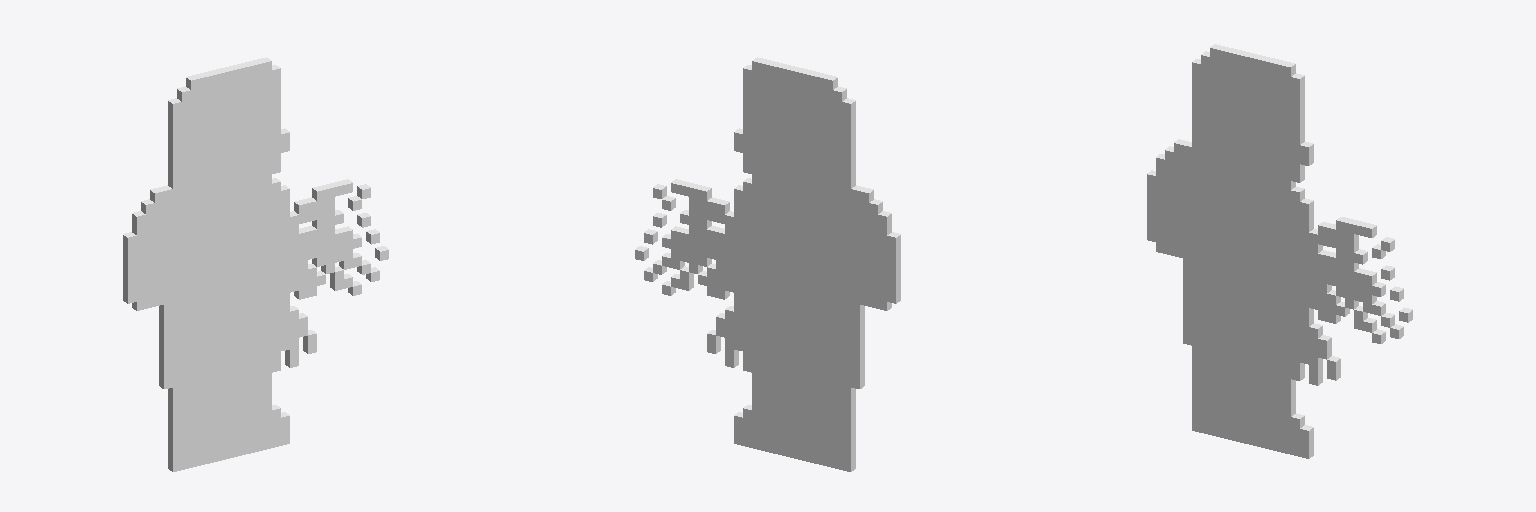
Rendered from ShootingPowerUpExplosive.obj.
3 renders of one model, left to right at view 1: azimuth 30°, elevation 25°; view 2: azimuth 150°, elevation 25°; view 3: azimuth 330°, elevation 25°, orthographic.
Parts seen in each view (by area): view 1: object 1; view 2: object 1; view 3: object 1.
Boxes of the visible parts, x1,y1,x2,y2 form: object 1: [123, 57, 388, 471]; object 1: [635, 57, 900, 471]; object 1: [1147, 44, 1412, 458].
Bounding box in the file's own units: 2.9 × 4.1 × 0.1.